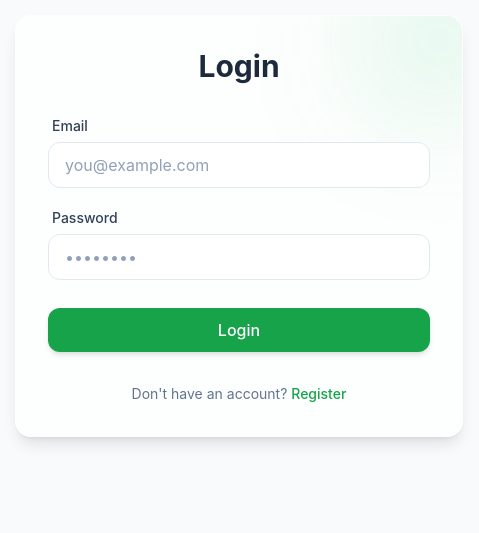
Login page › error messages › falls back to "Login failed" when the error body has no detail
Type "ada@example.com" into the field with placeholder "you@example.com" at (239, 165), box [48,142,430,188]
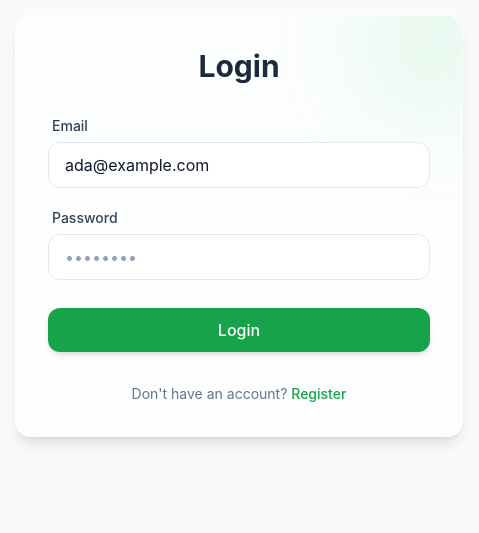
Type "secret123" into the password field with placeholder "••••••••" at (239, 257), box [48,234,430,280]
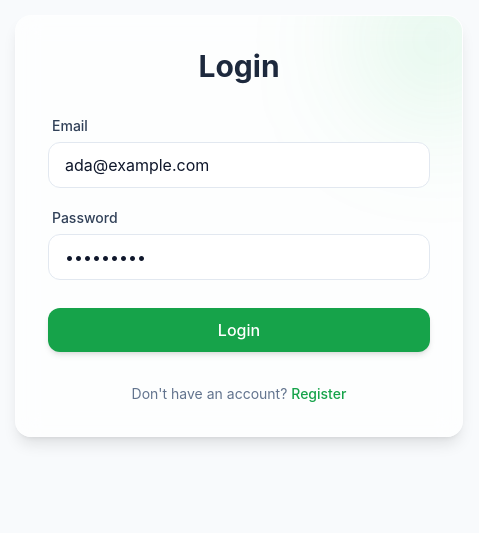
Click the button "Login" at (239, 330), box [48,308,430,352]
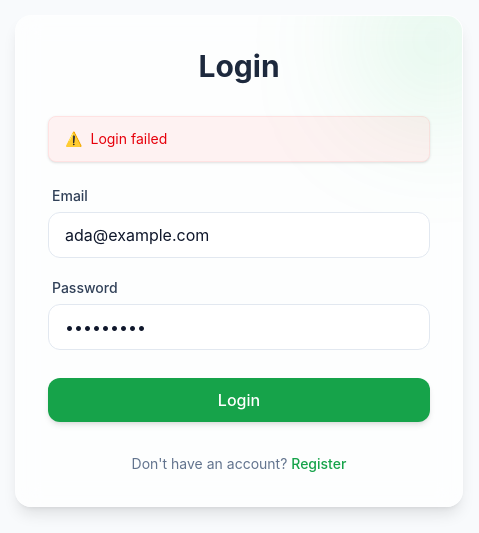
Result: the text "⚠️ Login failed" is shown at [48,116,430,162]
